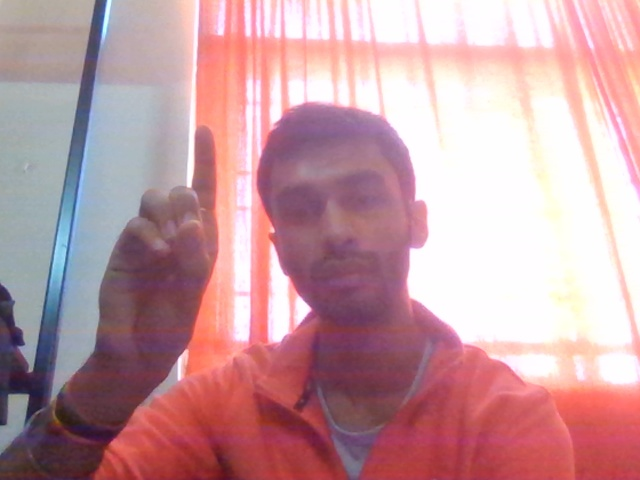D: (79, 123, 238, 400)
